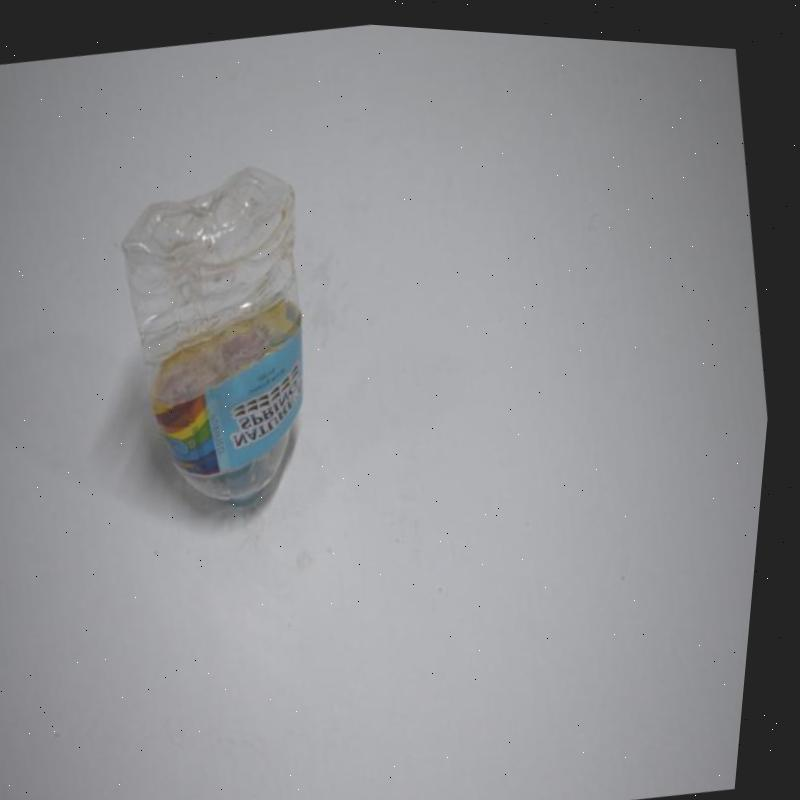botella: (74, 138, 362, 536)
